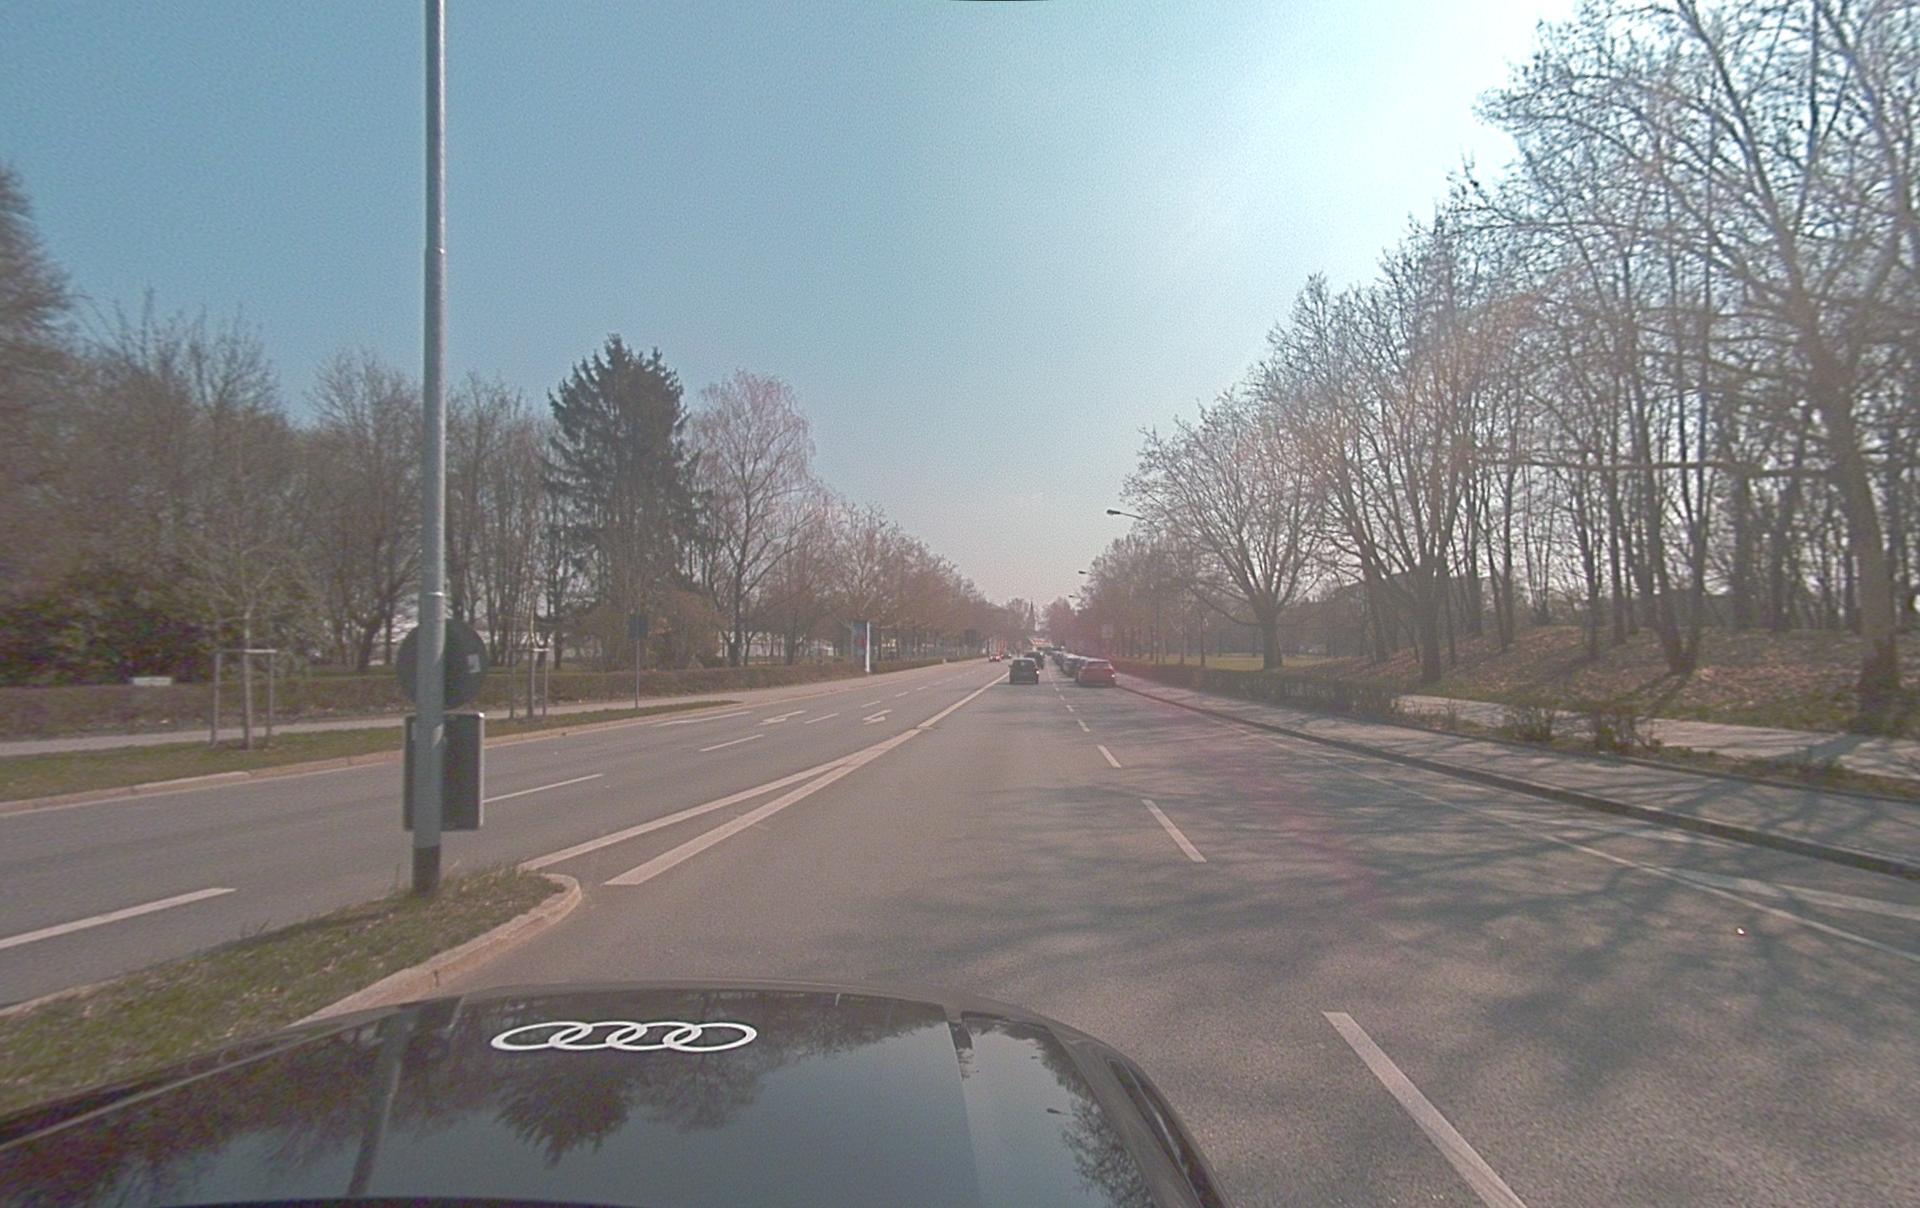car: (1, 978, 1233, 1208), (1077, 658, 1117, 686), (1009, 658, 1039, 685)
traffic sign: (395, 618, 488, 708)
